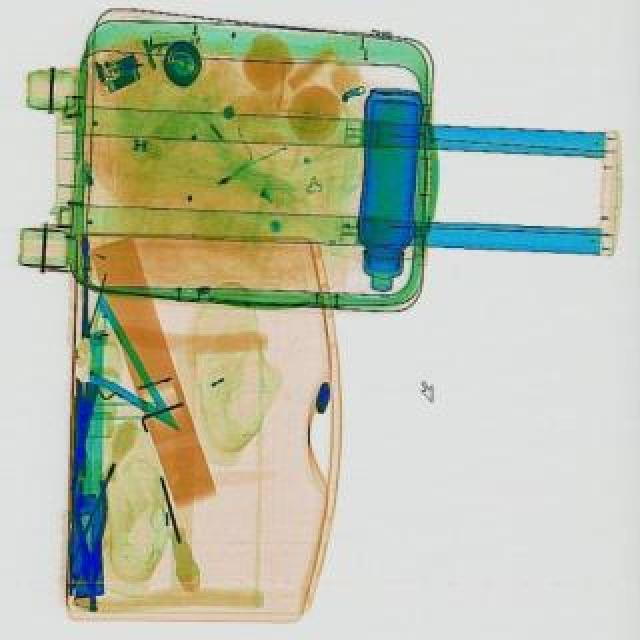wrench: (76, 482, 108, 594)
